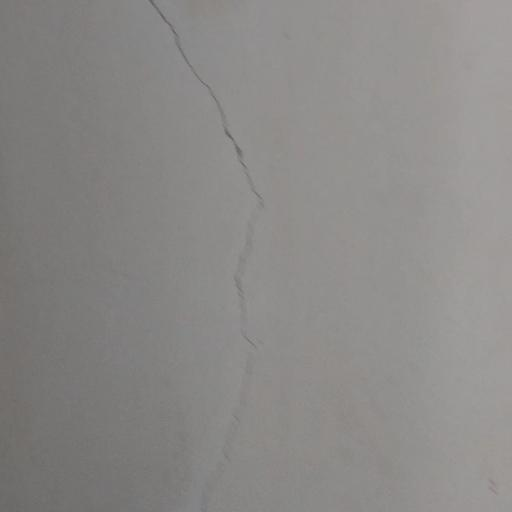minor_crack: (136, 0, 278, 512)
